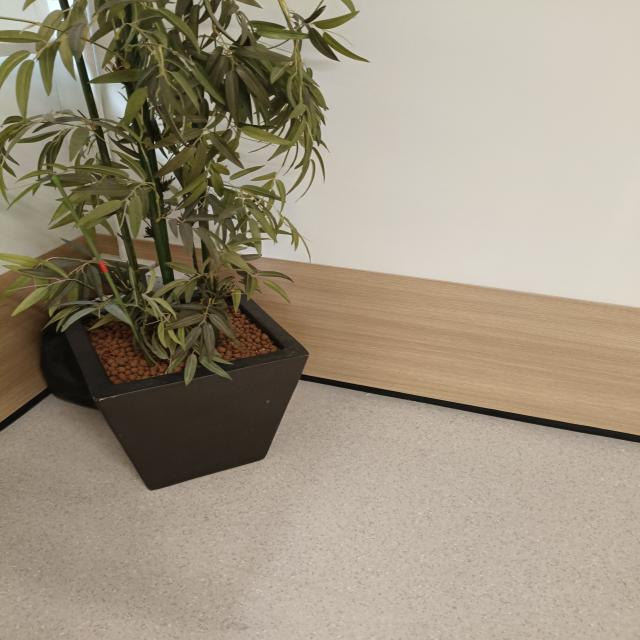Pot: (50, 277, 310, 491)
